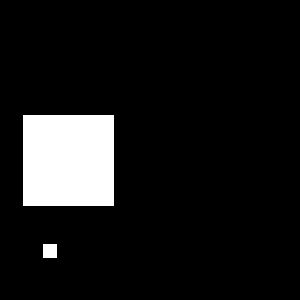circle: (23, 115, 114, 206), (43, 244, 57, 258)
